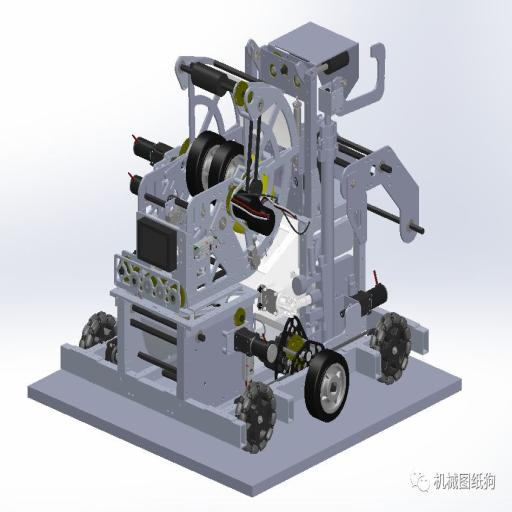robot: (24, 18, 464, 492)
